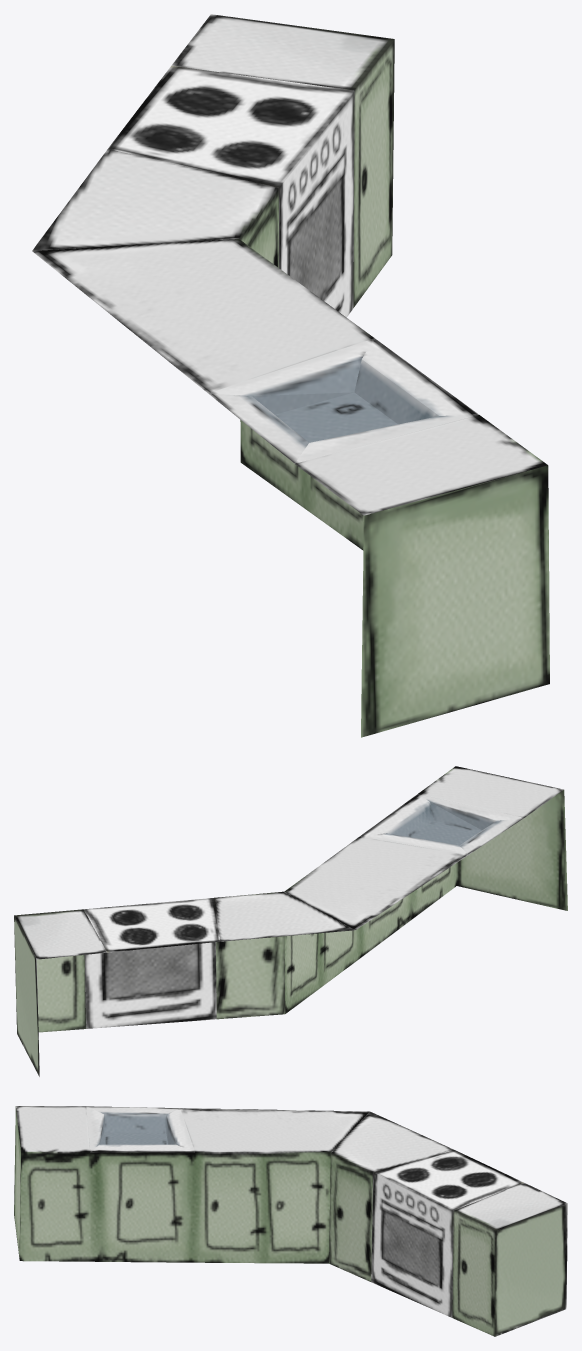
Rendered from furniture_bank.glb.
3 renders of one model, top to bottom at view 1: azimuth 30°, elevation 25°; view 2: azimuth 150°, elevation 25°; view 3: azimuth 270°, elevation 25°, orthographic. The views are drawn at different scales.
Parts seen in each view (by area): view 1: bank; view 2: bank; view 3: bank.
Boxes of the visible parts, left/top/right/bottom form: bank: left=32, top=14, right=549, bottom=737; bank: left=14, top=766, right=567, bottom=1076; bank: left=14, top=1106, right=567, bottom=1336.
Size of the model in its own units: 0.1723 by 0.0715 by 0.3201.
1 material, 1 textured.
